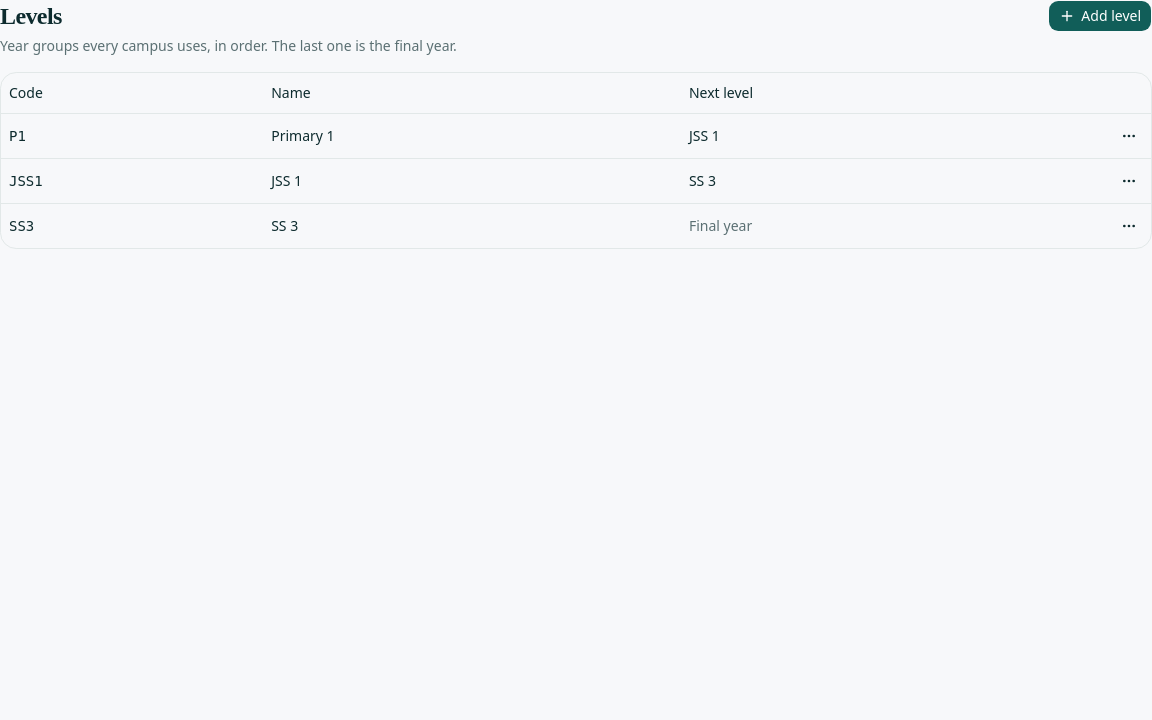
LevelsPage › edits a level without its code and shows a self-reference refusal inline
Expected: the text "Primary 1" is shown, [263,113,681,158]
Click the button named "Actions for JSS 1". click: click(1129, 180)
box: [1115,166,1143,194]
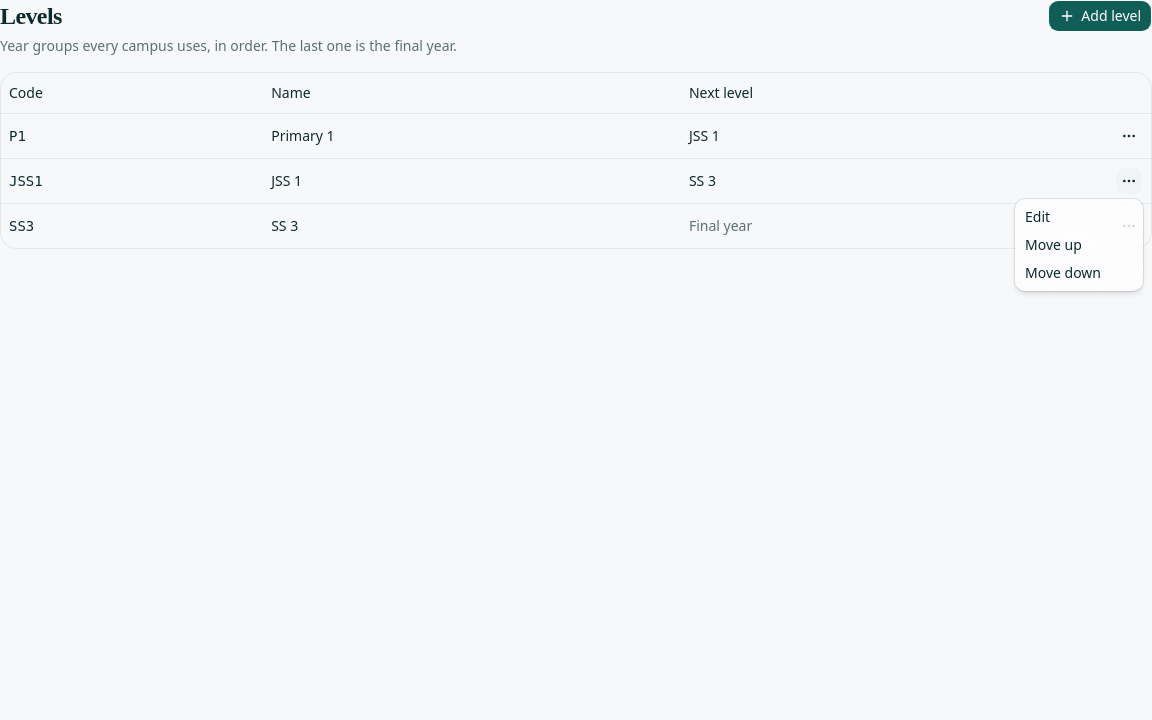
Click the menu item "Edit". click: click(1038, 216)
box: [1025,207,1050,226]
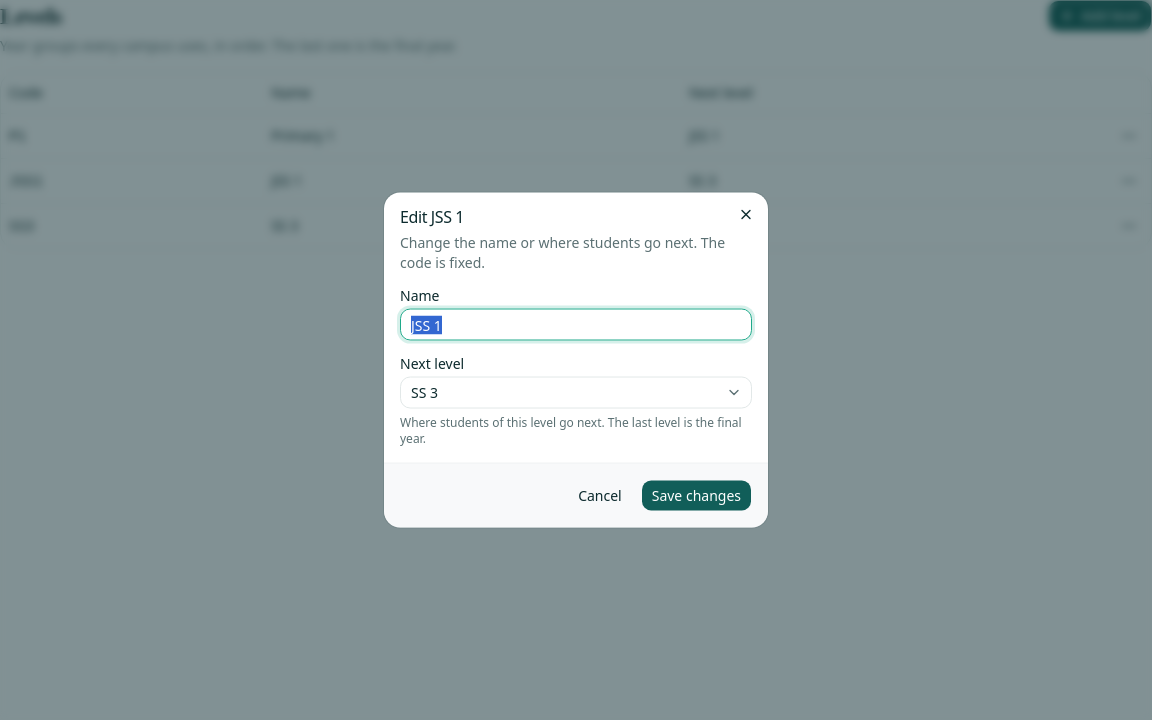
Expected: the field labelled "Name" holds "JSS 1", [400,308,752,340]
Click the button "Save changes". click: click(696, 496)
box: [641,480,752,512]
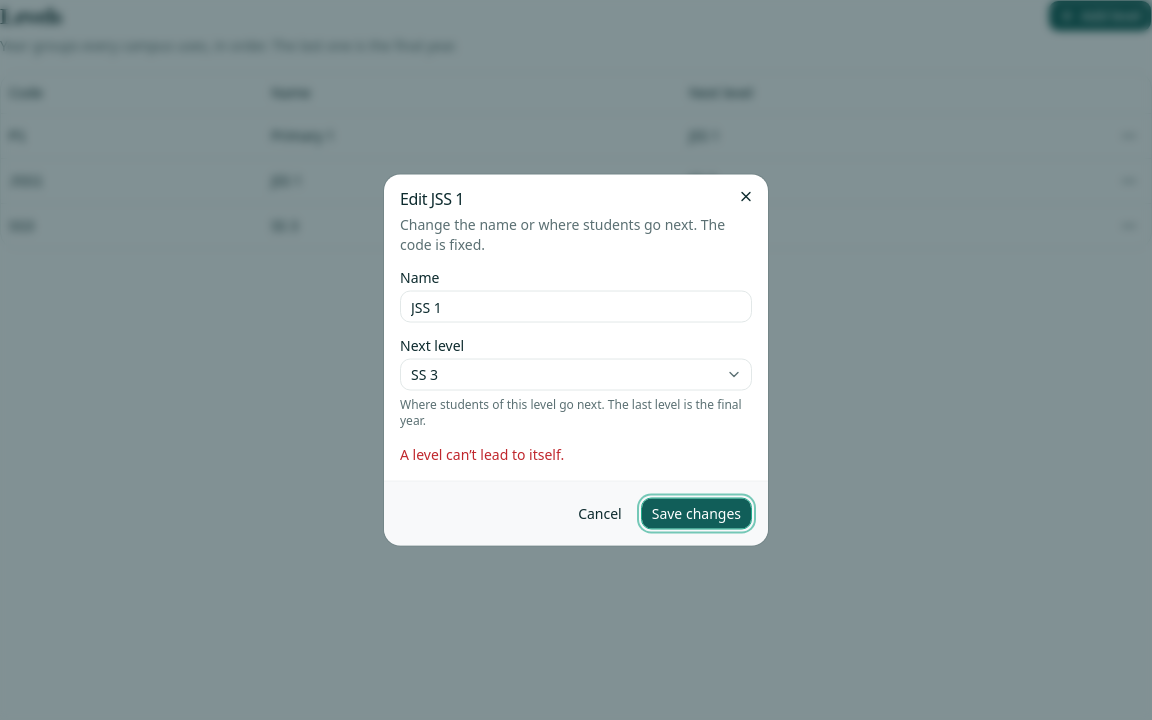
Expected: the message reads "A level can’t lead to itself.", [400,444,564,464]
